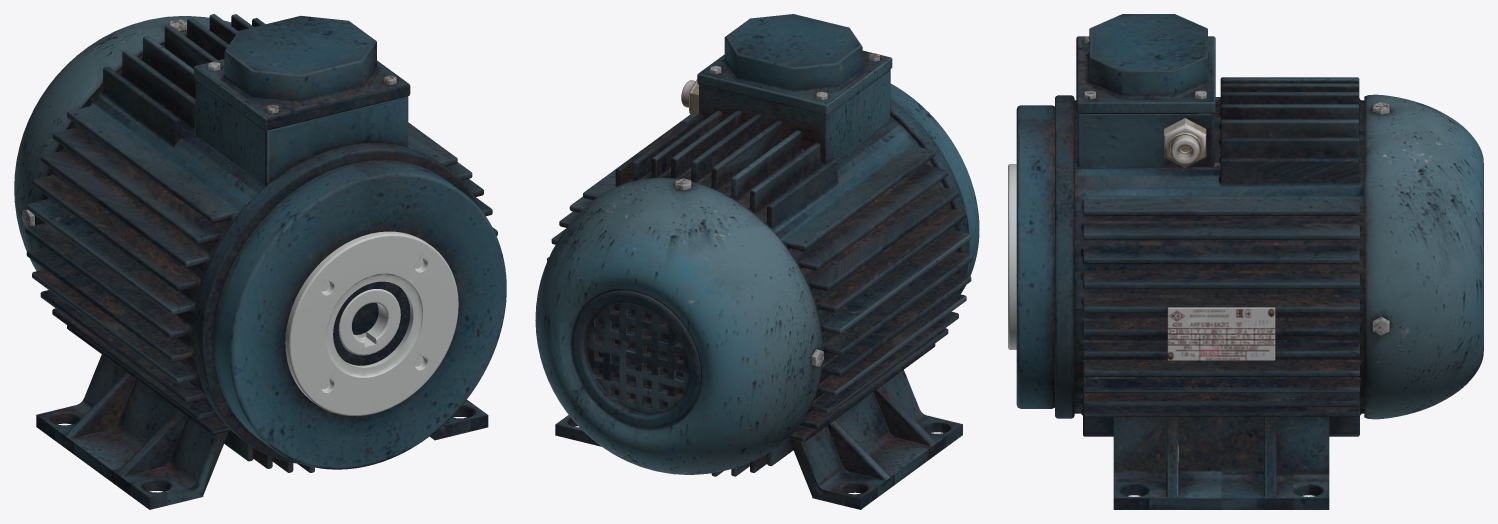
3 renders of one model, left to right at view 1: azimuth 30°, elevation 25°; view 2: azimuth 150°, elevation 25°; view 3: azimuth 270°, elevation 25°, orthographic. The views are drawn at different scales.
Visible parts, largest first — view 1: korpus, steel, bolt; view 2: korpus, bolt, plastic; view 3: korpus, icon, plastic, steel, bolt.
Part boxes in pixels (x1,y1,x2,y2): korpus: (14, 14, 506, 509); steel: (285, 231, 458, 416); bolt: (22, 19, 396, 227); korpus: (535, 14, 979, 509); bolt: (675, 53, 879, 366); plastic: (681, 79, 698, 115); korpus: (1016, 14, 1483, 509); icon: (1167, 307, 1275, 360); plastic: (1164, 118, 1206, 167); steel: (1008, 164, 1016, 349); bolt: (1084, 36, 1389, 335).
Bounding box in the file's own units: 0.1897 × 0.2193 × 0.2428.
1 material, 1 textured.
